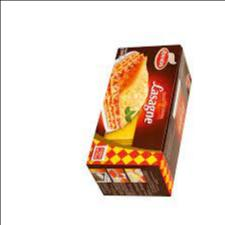lasagne: (86, 46, 191, 195)
